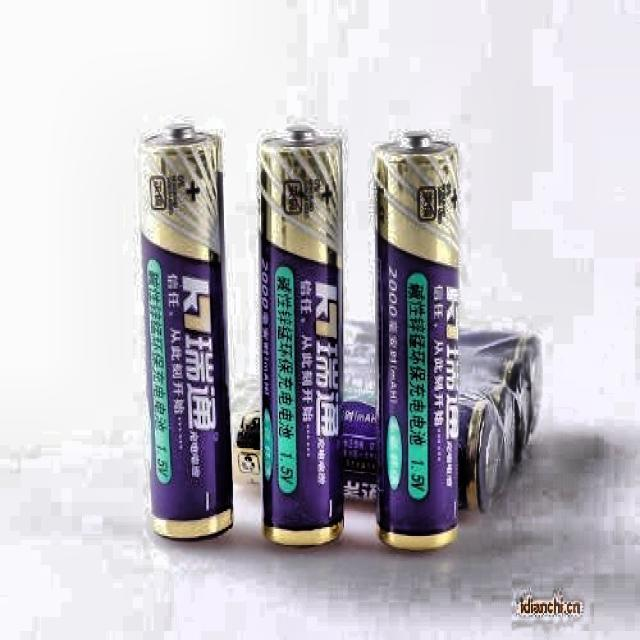battery: (141, 126, 232, 538), (260, 130, 344, 544), (376, 133, 459, 549)
